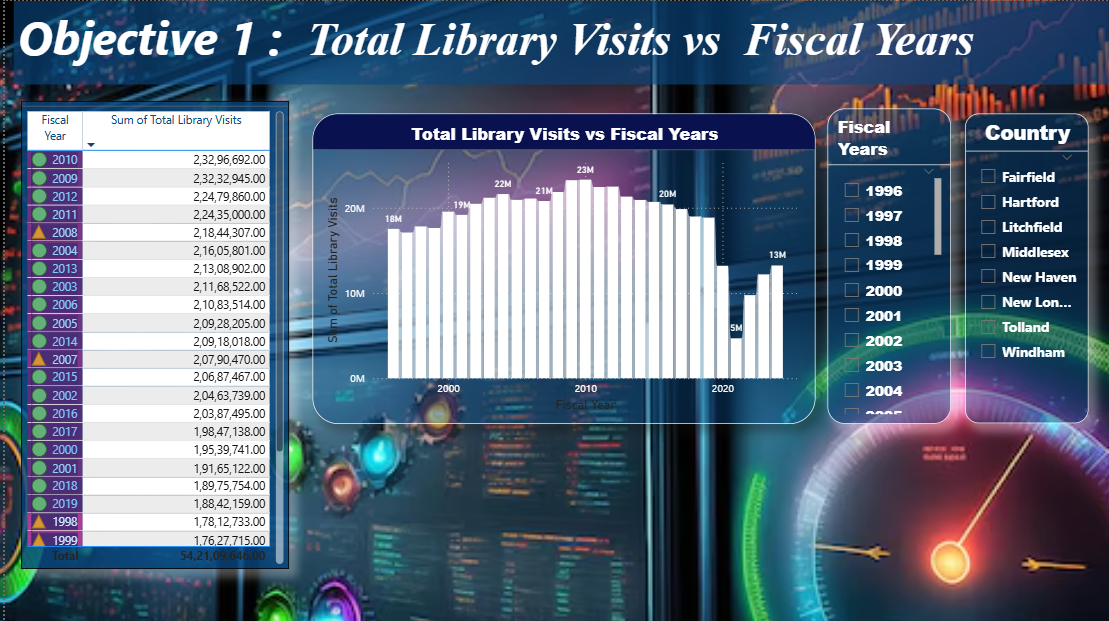

Layout of this report page (visuals, bound fields, positions):
{"tool":"powerbi","page":{"name":"Objective 1 ","canvas":[1280,720],"ordinal":2},"visuals":[{"type":"textbox","box":[10.6,0,1269.4,96.5],"z":0},{"type":"columnChart","title":"Total Library Visits  vs  Fiscal Years","fields":{"Category":["Public_Libraries.Fiscal Year.Variation.Date Hierarchy.Year"],"Y":["Sum(Public_Libraries.Total Library Visits)"]},"box":[356.5,130.6,583.5,360],"z":1000},{"type":"tableEx","fields":{"Values":["Public_Libraries.Fiscal Year","Sum(Public_Libraries.Total Library Visits)"]},"box":[18.8,115.3,310.6,542.4],"z":2000},{"type":"slicer","title":"Fiscal Years","fields":{"Values":["Public_Libraries.Fiscal Year"]},"box":[952.9,124.7,143.5,365.9],"z":3000},{"type":"slicer","title":"Country ","fields":{"Values":["Public_Libraries.County"]},"box":[1113.3,131.1,143.3,358.9],"z":4000}]}

Visuals, with their boxes in screenshot pixels (x1, y1, x2, y2), scaled from the page's 1280x720 canvas onto the 1109x621 screenshot:
textbox: detection(9, 0, 1108, 83)
"Total Library Visits  vs  Fiscal Years" columnChart: detection(309, 113, 814, 423)
tableEx - Public_Libraries.Fiscal Year x Sum(Public_Libraries.Total Library Visits): detection(16, 99, 285, 567)
"Fiscal Years" slicer: detection(826, 108, 950, 423)
"Country " slicer: detection(965, 113, 1089, 423)
